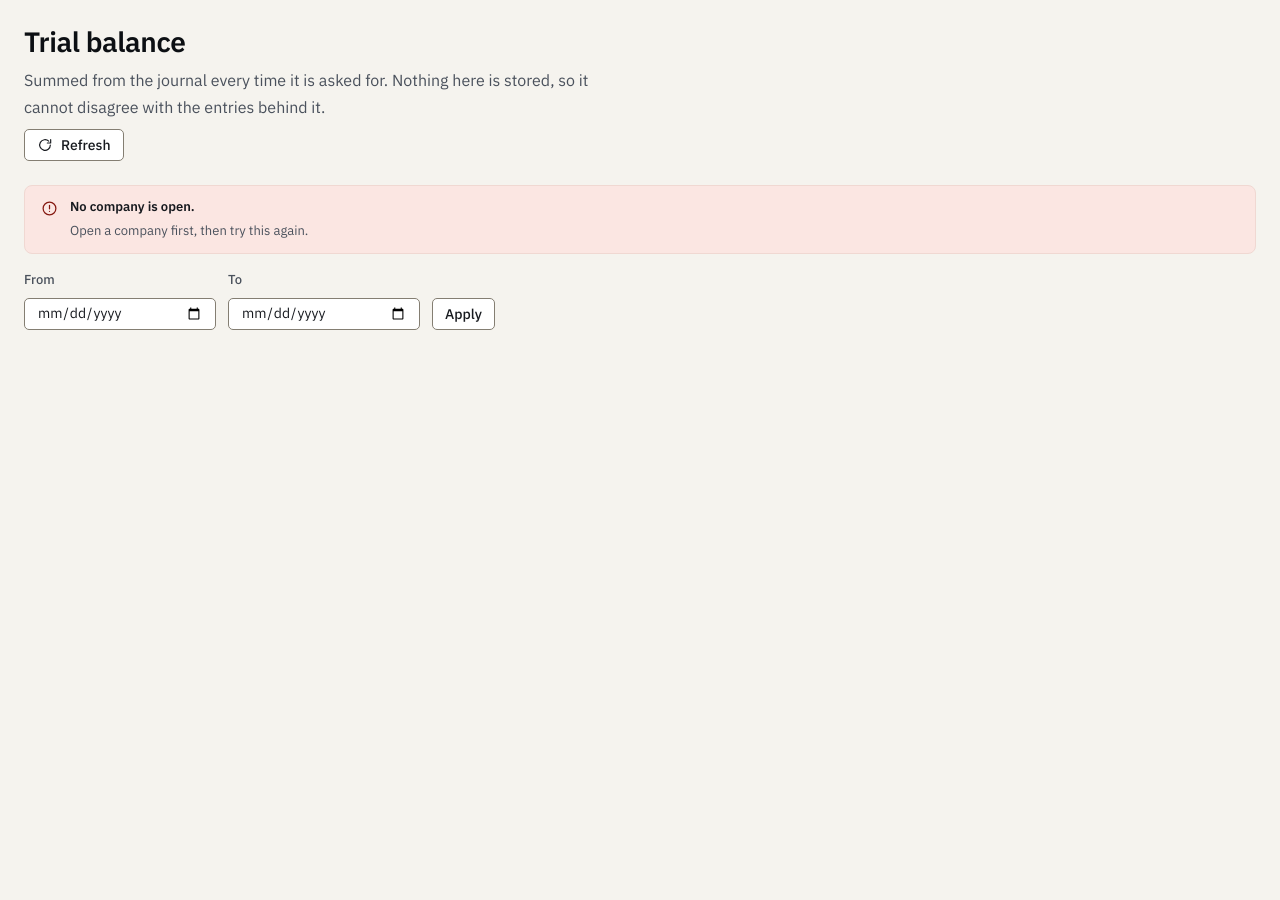
TrialBalance › recovers when a later refresh succeeds
Expected: the message "No company is open. Open a company first, then try this again." is shown, [24,185,1256,254]
Click the button "Refresh": (74, 145) [24,129,124,161]
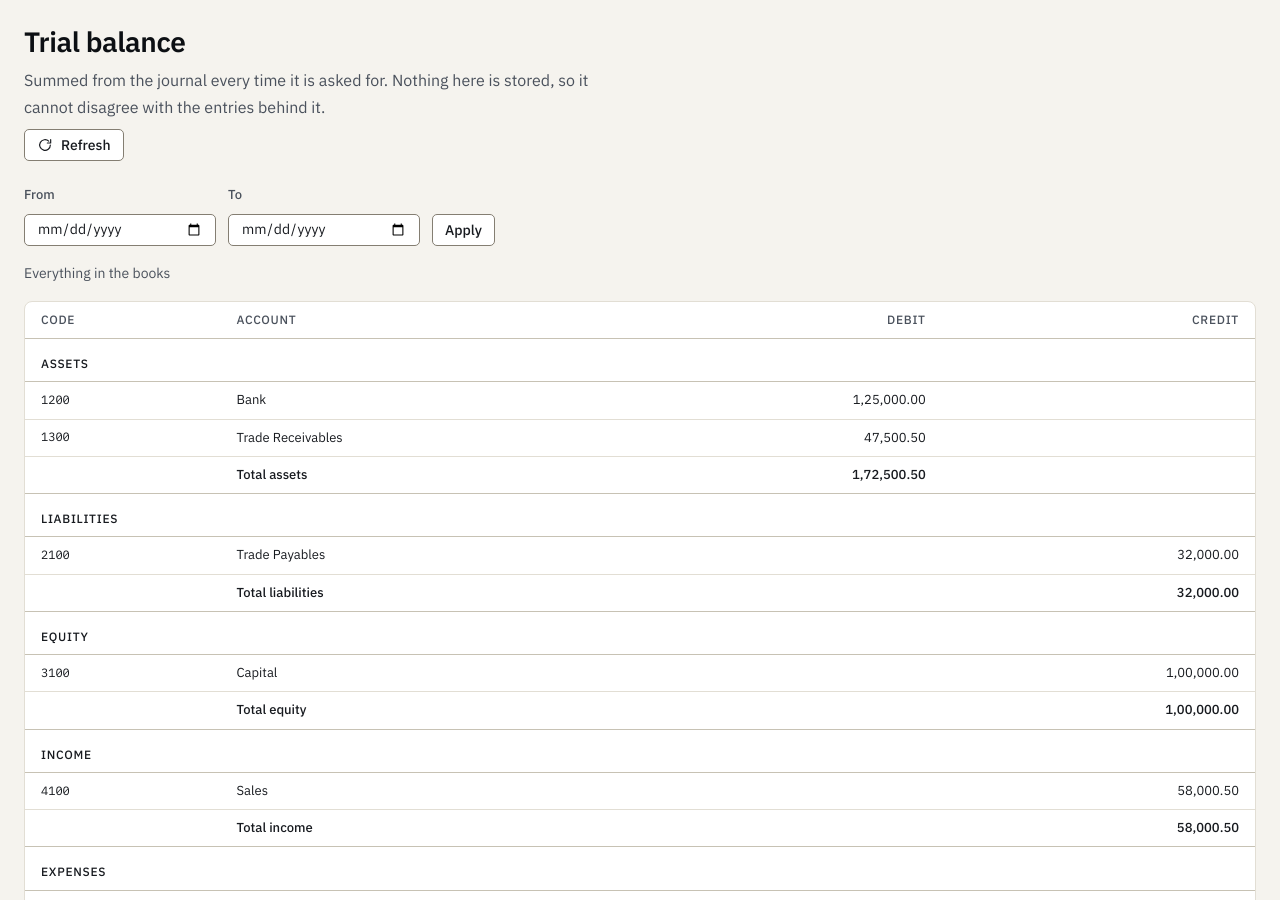
Now the text "Bank" is shown, box [220,382,628,419]
Now the message "No company is open. Open a company first, then try this again." is gone
